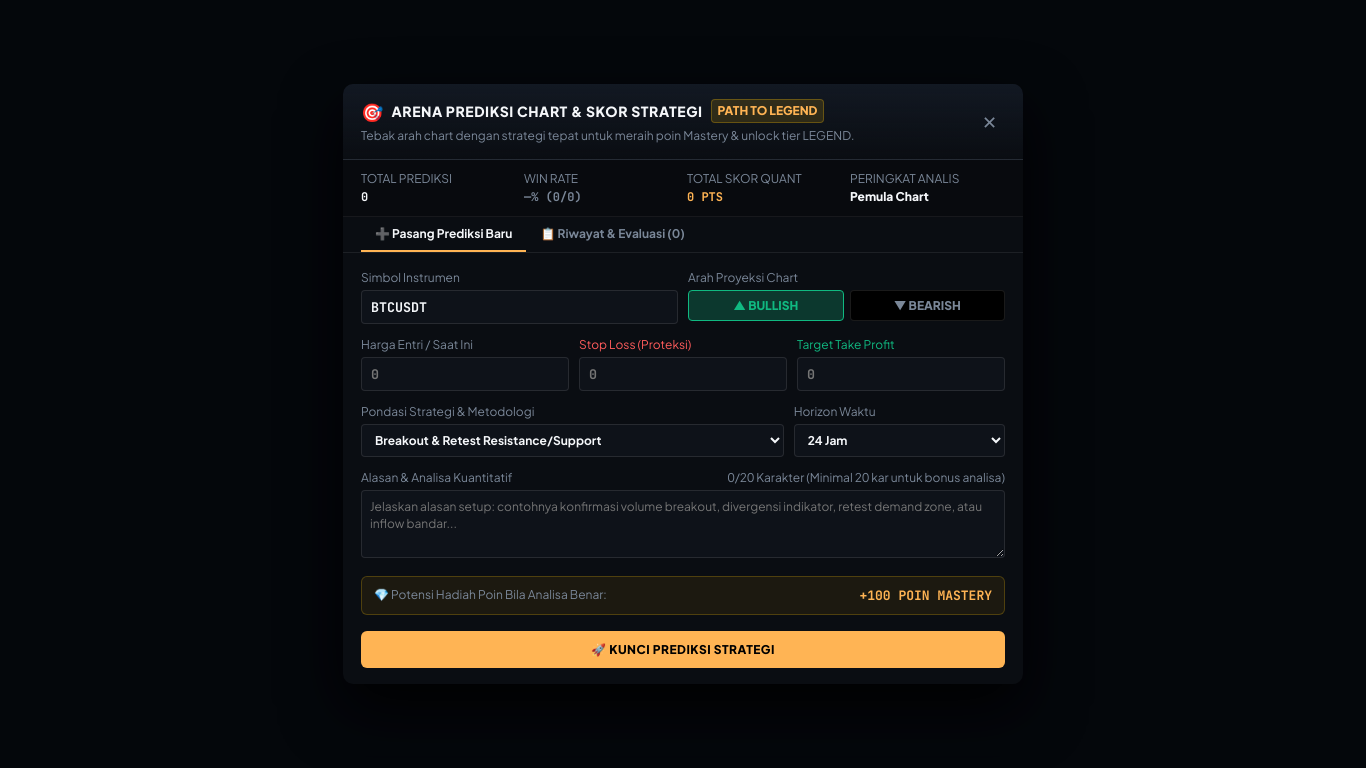
Test: ChartPredictionModal › rejects an invalid BULLISH setup where stop loss sits above entry
In the number field labelled "Harga Entri / Saat Ini": (465, 374) left=361, top=357, right=569, bottom=391, type "100"
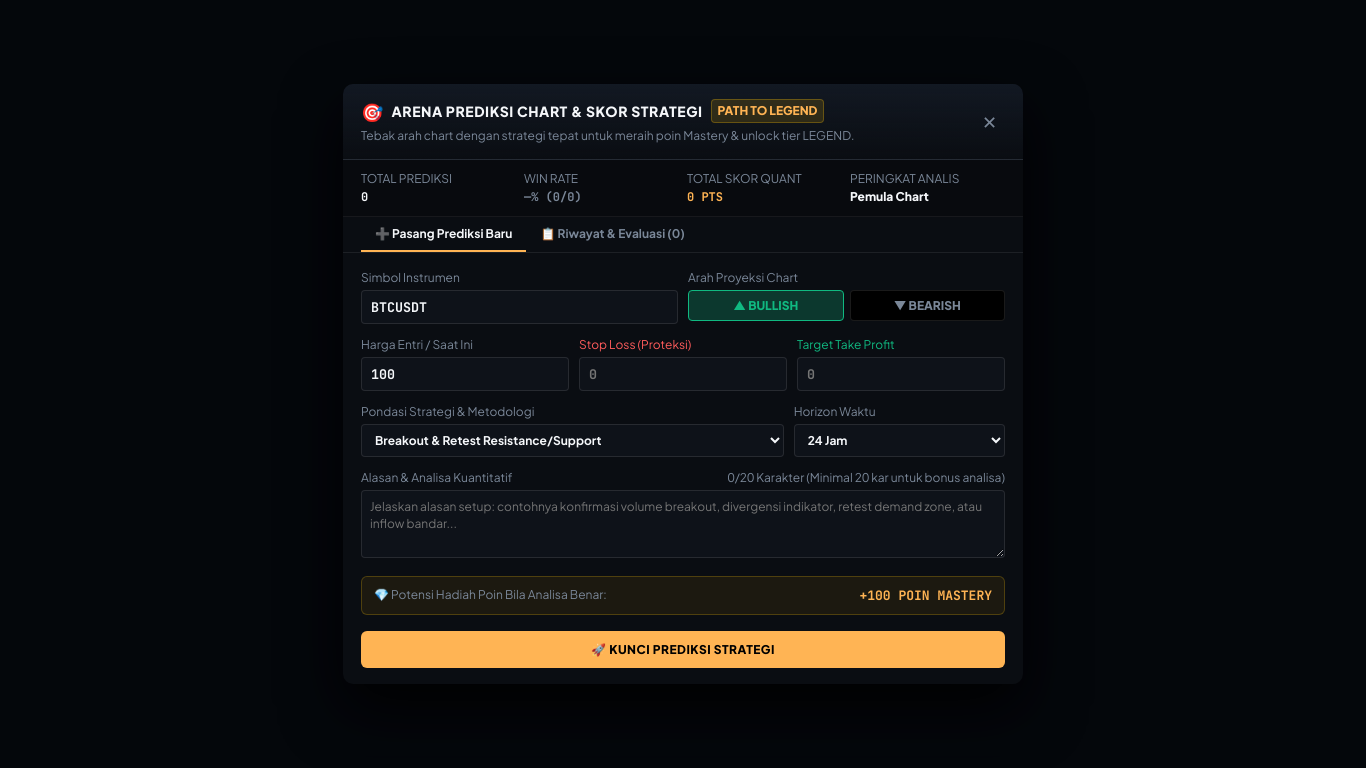
In the number field labelled "Stop Loss (Proteksi)": (683, 374) left=579, top=357, right=787, bottom=391, type "110"
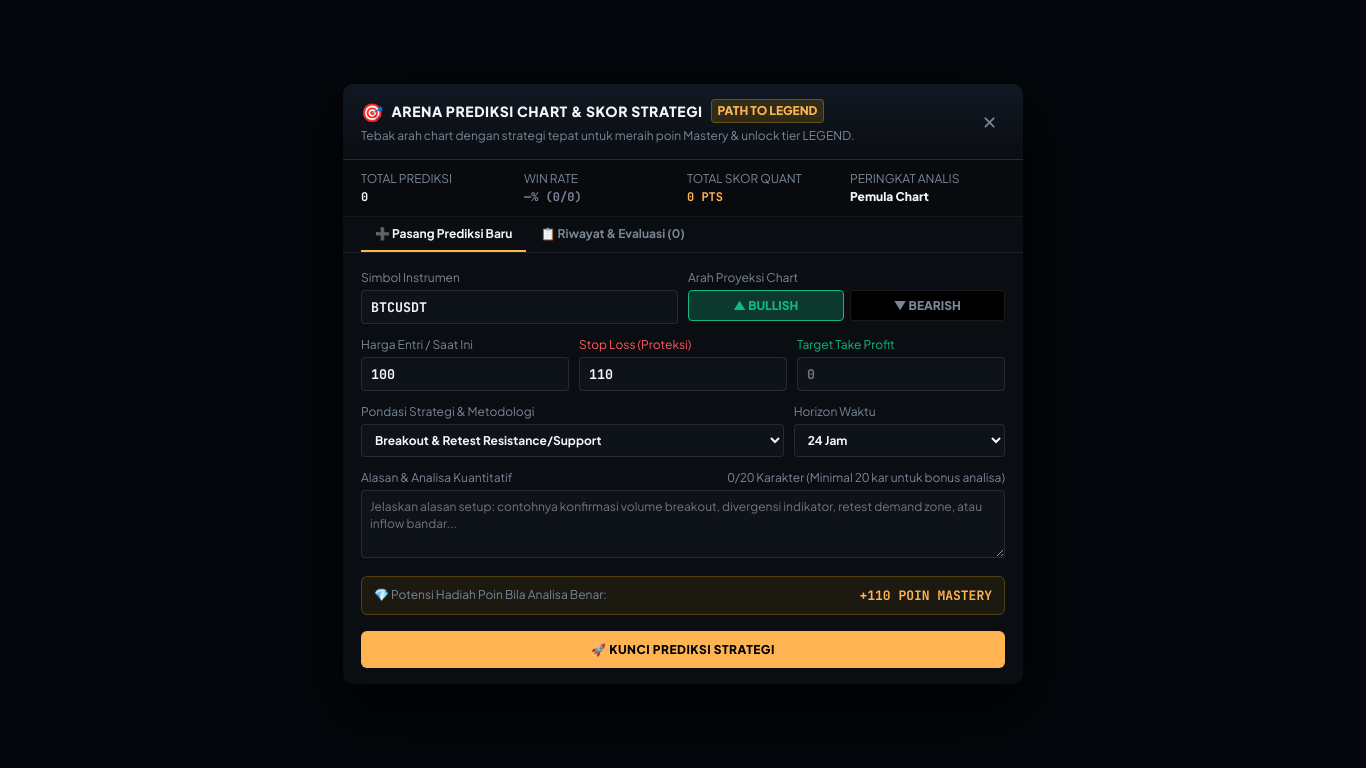
In the number field labelled "Target Take Profit": (901, 374) left=797, top=357, right=1005, bottom=391, type "120"
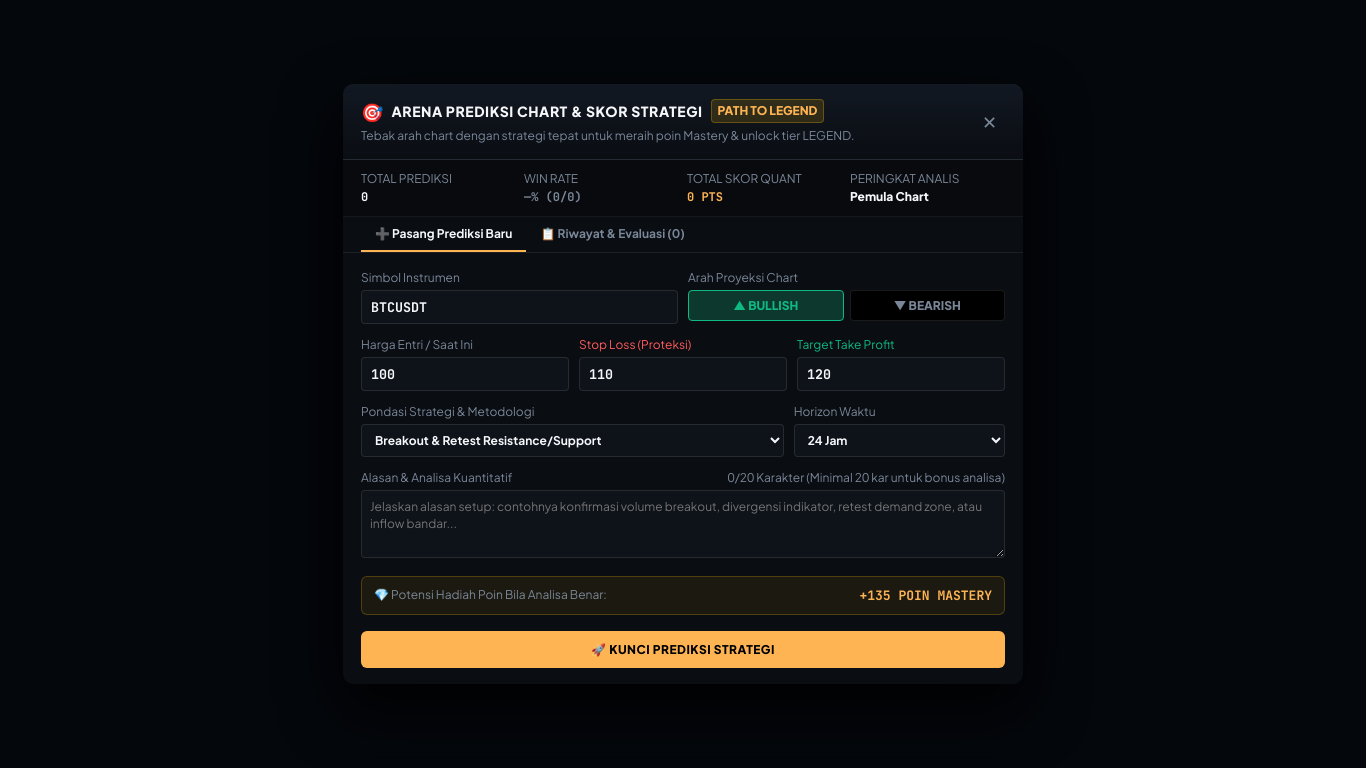
Click the button "🚀 KUNCI PREDIKSI STRATEGI": (683, 650) left=361, top=631, right=1005, bottom=668
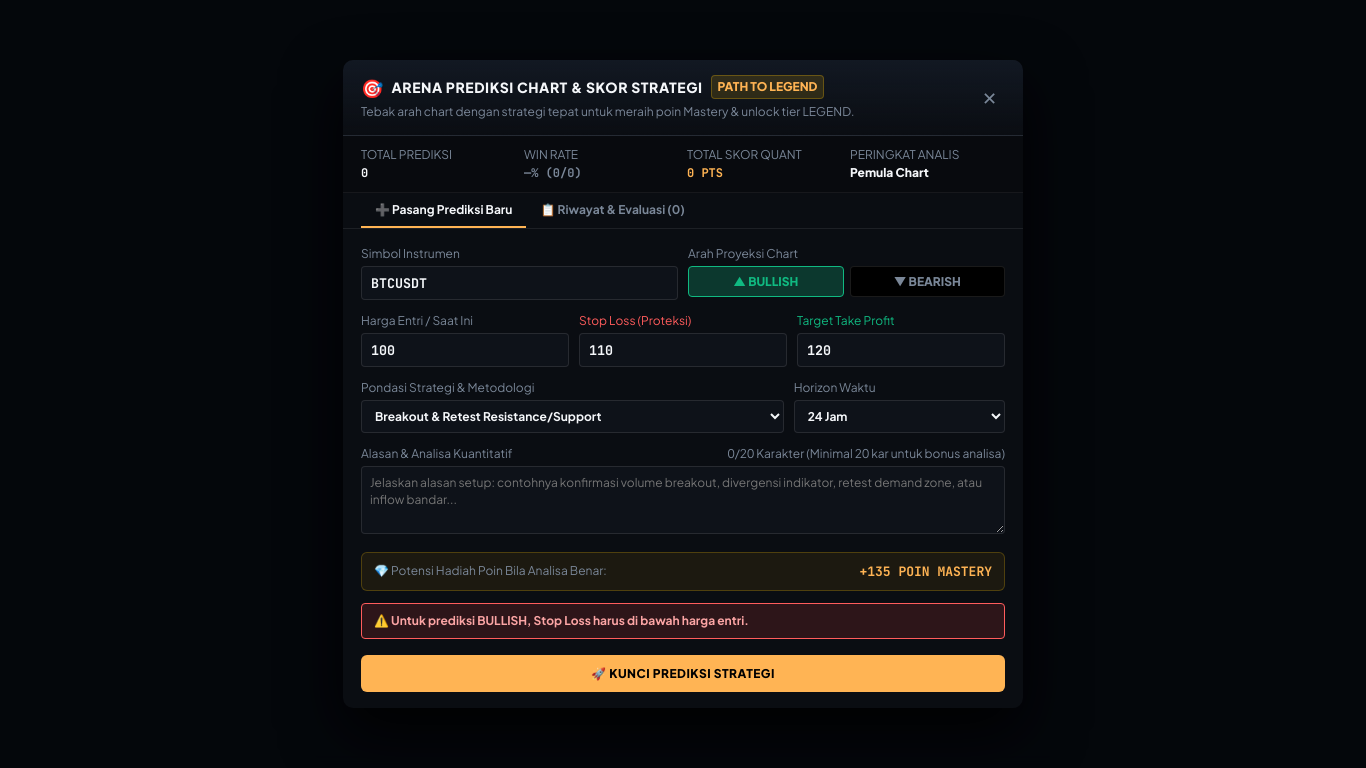
Expected: the text "Stop Loss harus di bawah harga entri" is shown, left=391, top=613, right=749, bottom=628
